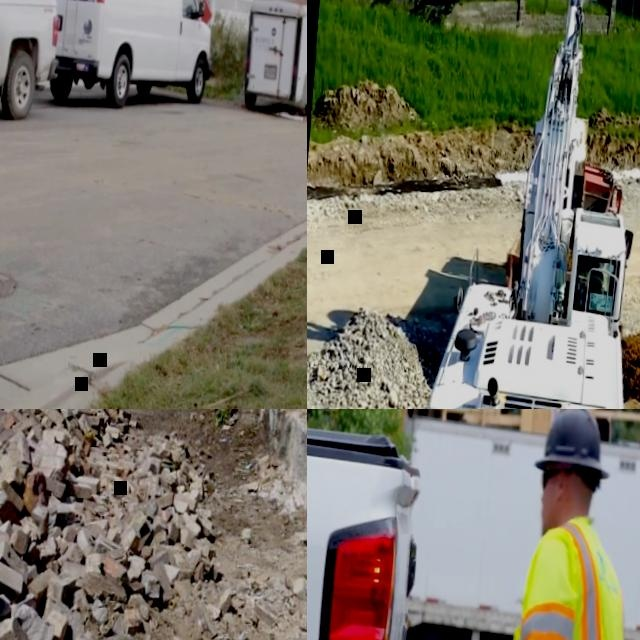Hardhat: (530, 409, 613, 480)
NO-Mask: (536, 492, 569, 538)
Person: (484, 409, 640, 640)
Safety Vest: (495, 516, 640, 640)
machinery: (406, 0, 640, 409)
vehicle: (307, 409, 513, 640), (34, 0, 221, 116), (0, 0, 69, 122)
